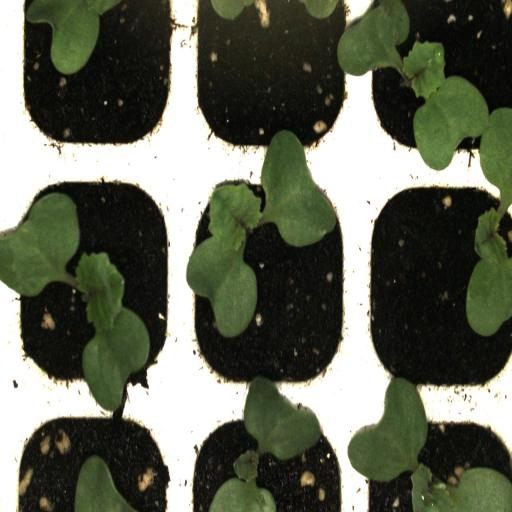Folha: (24, 0, 120, 75), (74, 455, 135, 512)
Germinacao: (180, 162, 360, 402), (16, 156, 179, 403), (361, 164, 512, 405), (360, 0, 511, 165), (181, 403, 361, 512), (361, 406, 512, 512)
